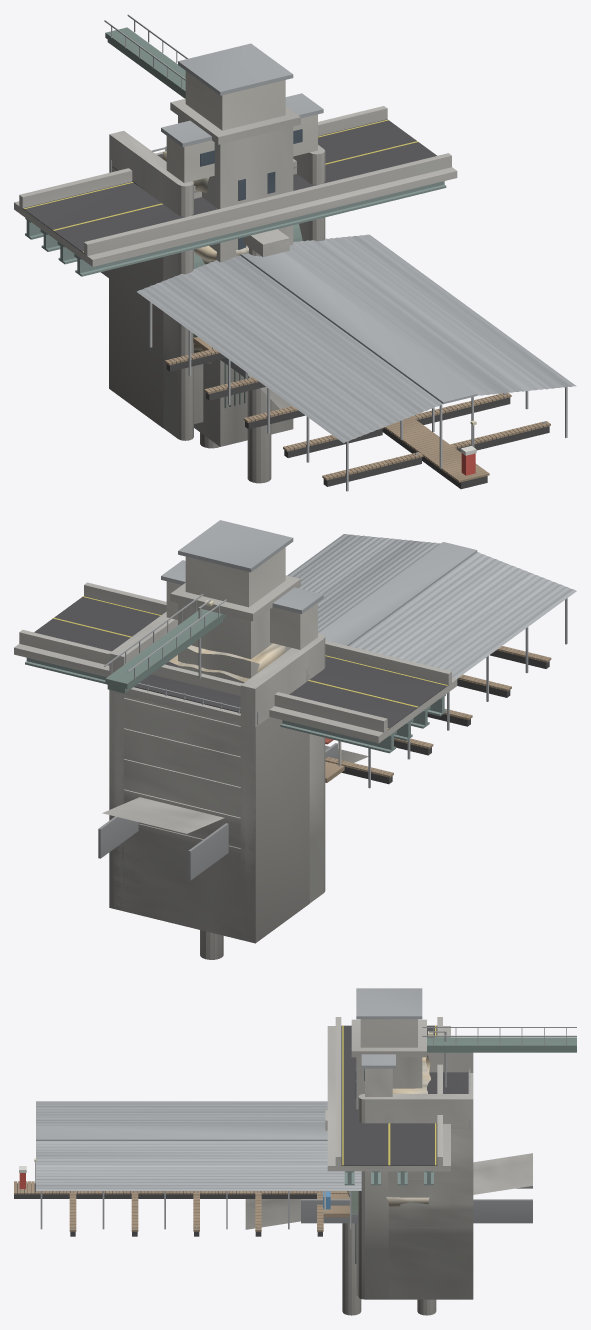
The model's file is bluff_kit.glb.
3 renders of one model, top to bottom at view 1: azimuth 30°, elevation 25°; view 2: azimuth 150°, elevation 25°; view 3: azimuth 270°, elevation 25°, orthographic. The views are drawn at different scales.
Visible parts, largest first — view 1: marina, bridge_span, intake_tower, dam_gate, dam_seg, bridge_pier, ledge_b; view 2: dam_seg, marina, dam_gate, bridge_span, intake_tower, ramp, ledge_b, bridge_pier; view 3: marina, dam_seg, dam_gate, bridge_span, intake_tower, ramp, bridge_pier, ledge_b, bait_shop.
Part boxes in pixels (<box>): marina: <box>137,234,576,491</box>; bridge_span: <box>14,106,457,276</box>; intake_tower: <box>104,14,300,446</box>; dam_gate: <box>109,93,325,440</box>; dam_seg: <box>109,146,297,427</box>; bridge_pier: <box>200,229,289,483</box>; ledge_b: <box>162,151,248,350</box>; dam_seg: <box>109,683,309,943</box>; marina: <box>287,534,576,788</box>; dam_gate: <box>109,560,325,943</box>; bridge_span: <box>14,582,457,753</box>; intake_tower: <box>104,520,300,693</box>; ramp: <box>98,743,368,880</box>; ledge_b: <box>169,643,285,682</box>; bridge_pier: <box>200,930,223,959</box>; marina: <box>14,1101,361,1236</box>; dam_seg: <box>385,1068,473,1299</box>; dam_gate: <box>358,1052,473,1299</box>; bridge_span: <box>327,1017,450,1185</box>; intake_tower: <box>351,988,576,1295</box>; ramp: <box>245,1153,532,1229</box>; bridge_pier: <box>325,1110,436,1315</box>; ledge_b: <box>386,1054,430,1207</box>; bait_shop: <box>323,1191,358,1217</box>.
Bounding box in the file's own units: 30 × 30.9 × 51.
